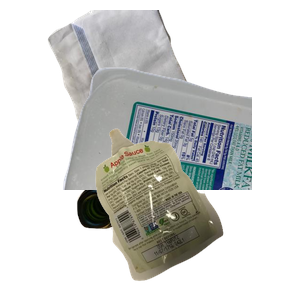glass: (74, 158, 223, 300)
paper: (45, 10, 251, 190)
plastic: (60, 65, 300, 245)
trash: (93, 126, 300, 300)
